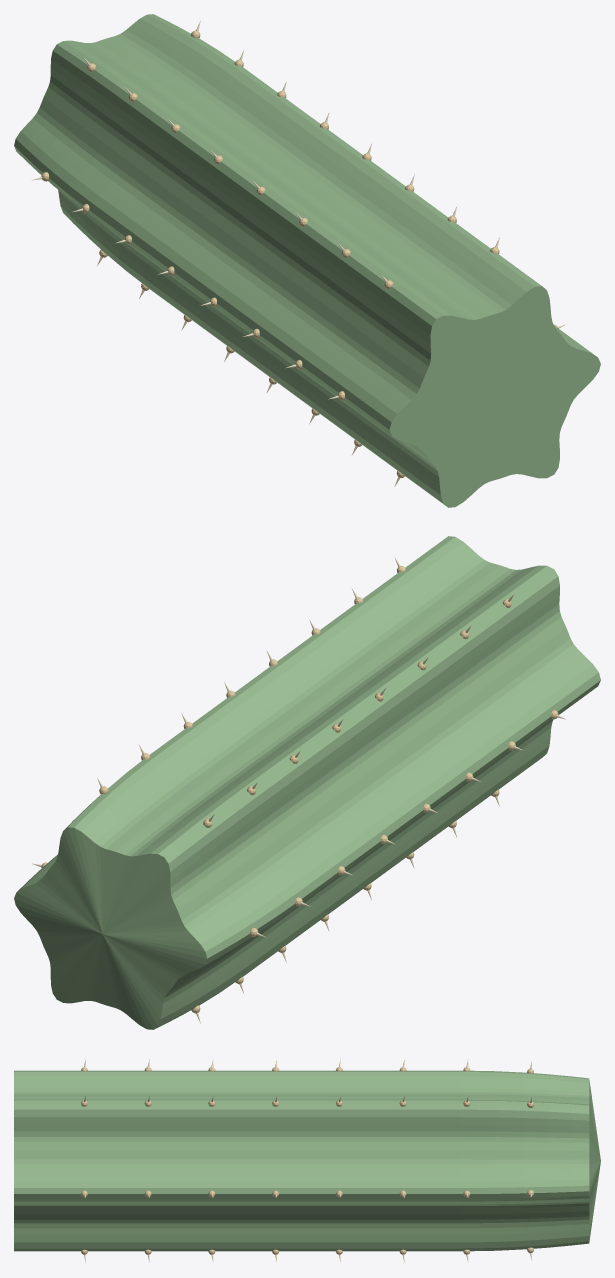
Rendered from pachanoi-geometry-nodes-frame6.glb.
The picture shows the model from 3 angles, top to bottom: view 1: azimuth 30°, elevation 25°; view 2: azimuth 150°, elevation 25°; view 3: azimuth 270°, elevation 25°; orthographic projection. The views are drawn at different scales.
Visible parts, largest first — view 1: WACHUMA_Pachanoi_GN_Baked; view 2: WACHUMA_Pachanoi_GN_Baked; view 3: WACHUMA_Pachanoi_GN_Baked.
Part boxes in pixels (box(x1,y1,x2,y2)): WACHUMA_Pachanoi_GN_Baked: box(14, 14, 600, 507); WACHUMA_Pachanoi_GN_Baked: box(14, 536, 600, 1029); WACHUMA_Pachanoi_GN_Baked: box(14, 1058, 600, 1263).
Size of the model in its own units: 0.9175 by 0.8255 by 2.6.
